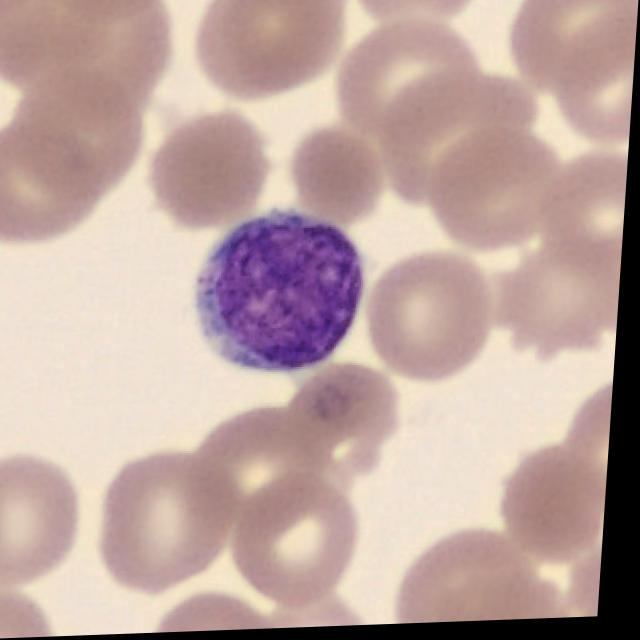Linfocito: (198, 209, 370, 374)
